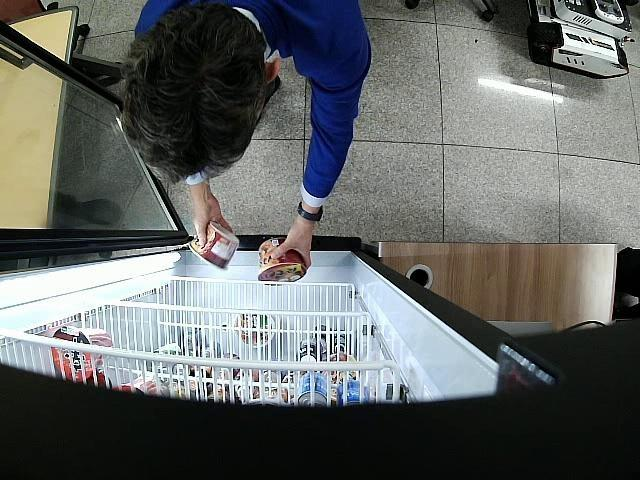05_nuguri_L: (189, 221, 239, 270), (258, 237, 306, 286)
